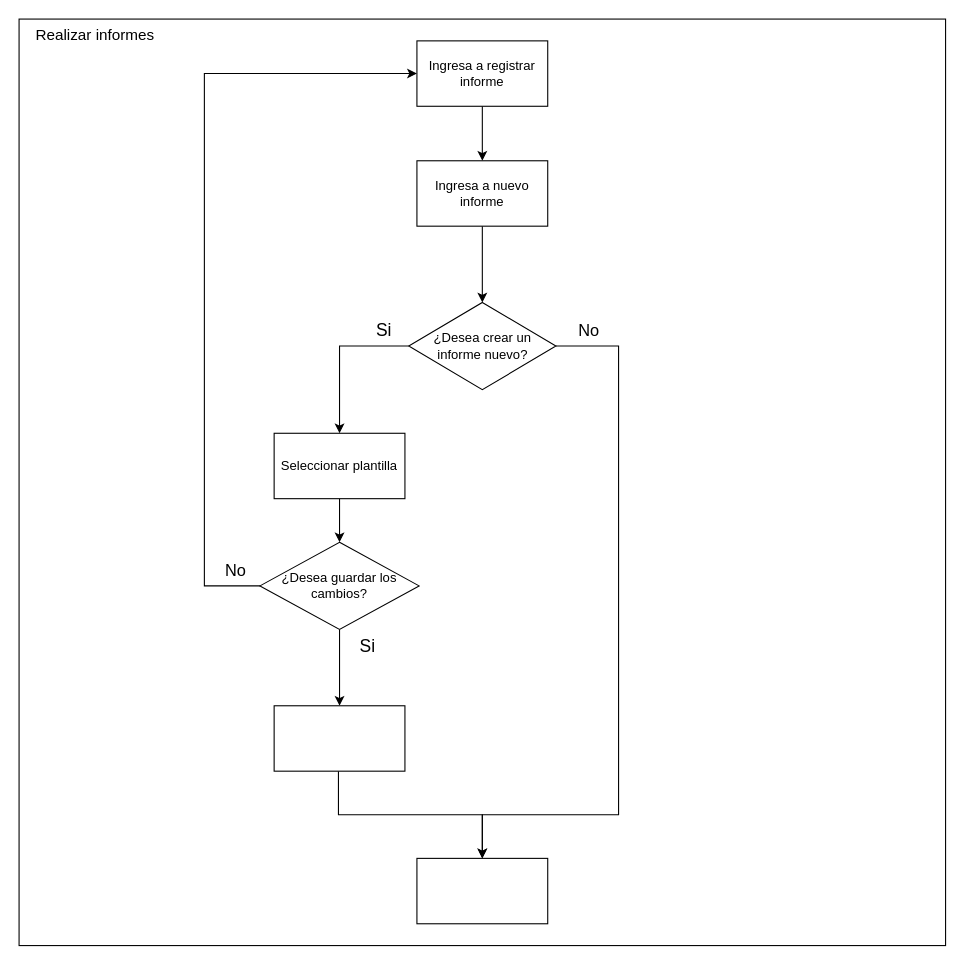
Image size: 965x965. Some labels were removed from this diagram. Each missing label, with the box of its shape:
Fin: (416, 857, 548, 924)
Guardar cambios: (273, 705, 405, 771)
